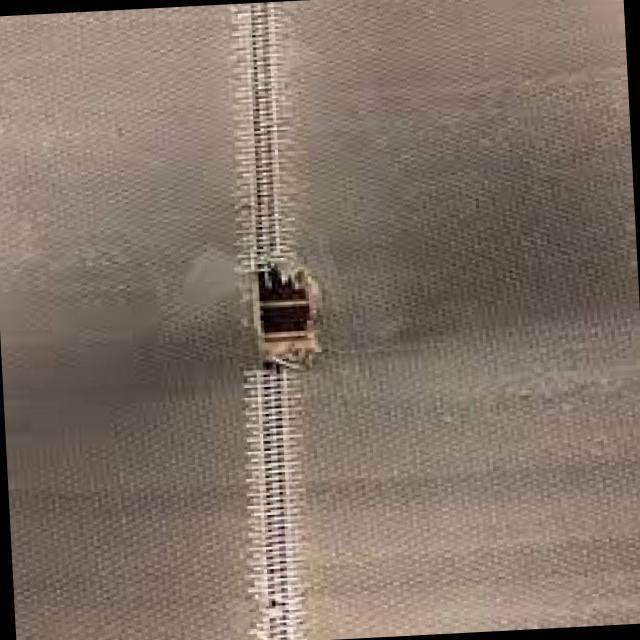Hole: (234, 256, 335, 384)
